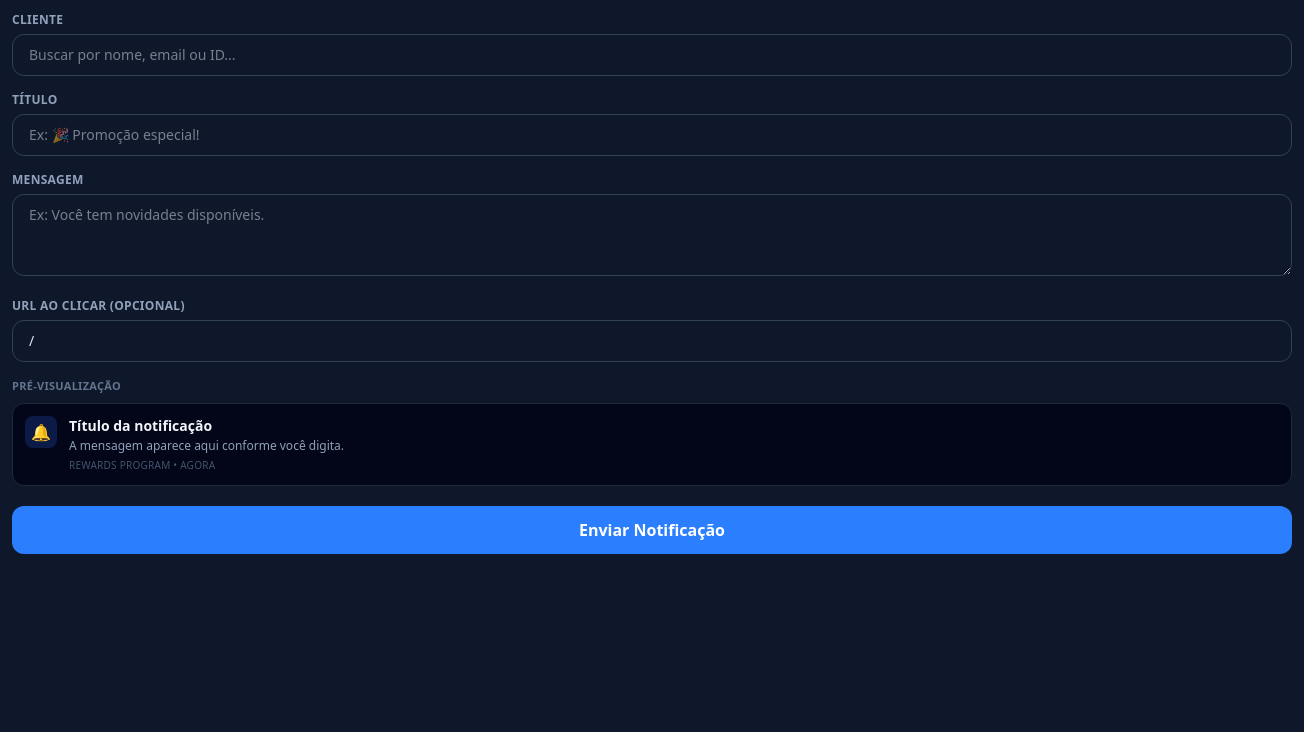
IndividualTab › mostra erro ao tentar enviar sem selecionar cliente nem preencher campos
Click the button "Enviar Notificação" at (652, 530), box [12,506,1292,554]
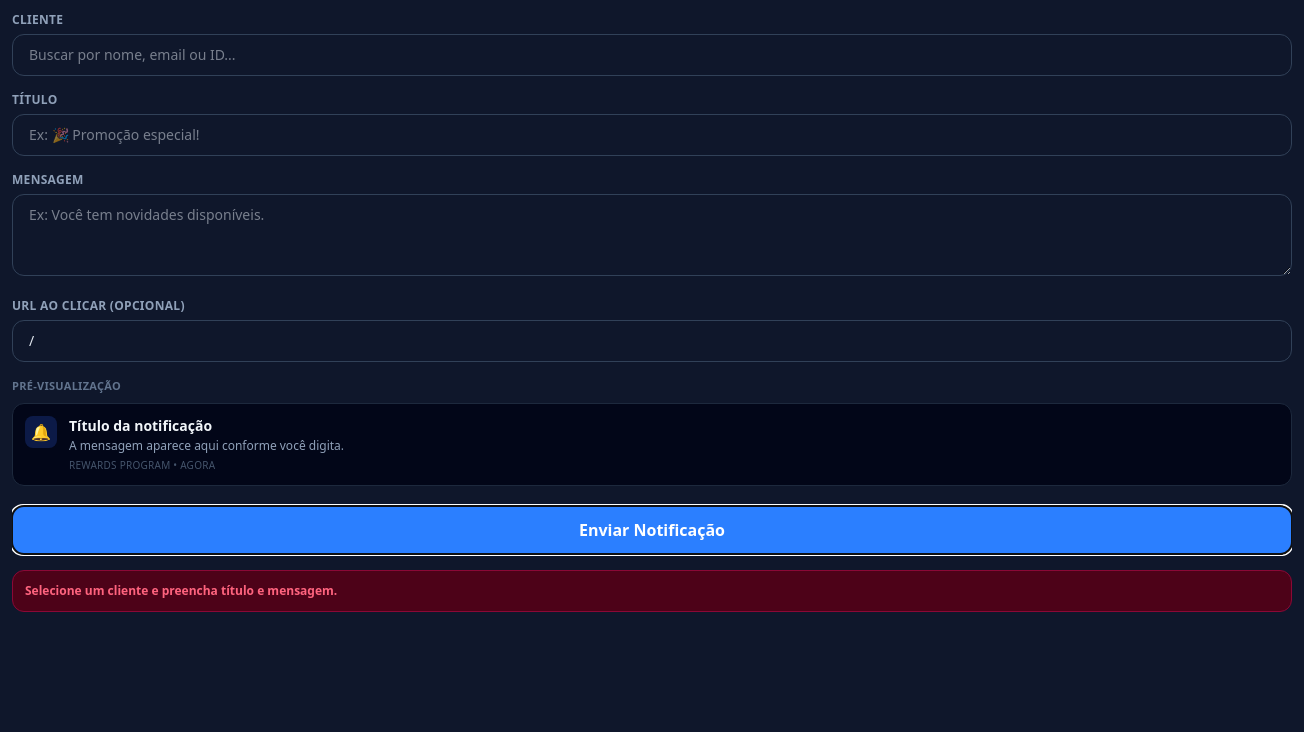
Expected: the text "Selecione um cliente e preencha título e mensagem." is shown, [12,570,1292,612]
